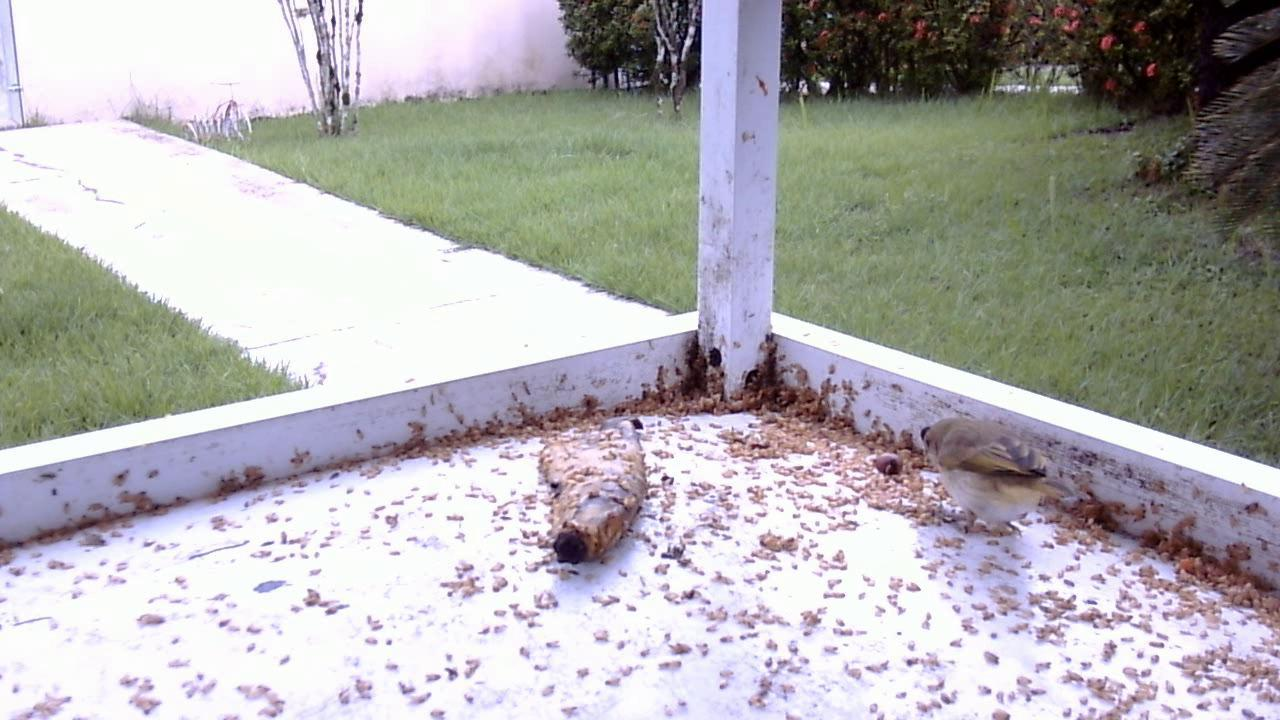canario_do_amazonas: (912, 406, 1065, 540)
